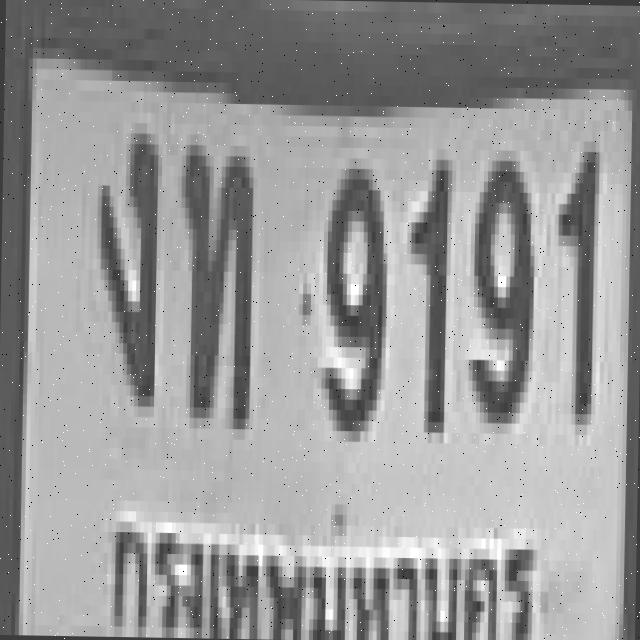1: (551, 136, 596, 420), (404, 148, 448, 422)
16NgorNgu: (90, 122, 154, 396)
32ThorThaHan: (178, 134, 250, 408)
9: (320, 158, 384, 432), (468, 150, 532, 412)
Bangkok: (101, 490, 544, 640)
